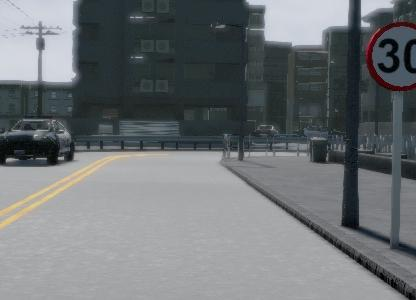Speed_30: (362, 19, 416, 92)
